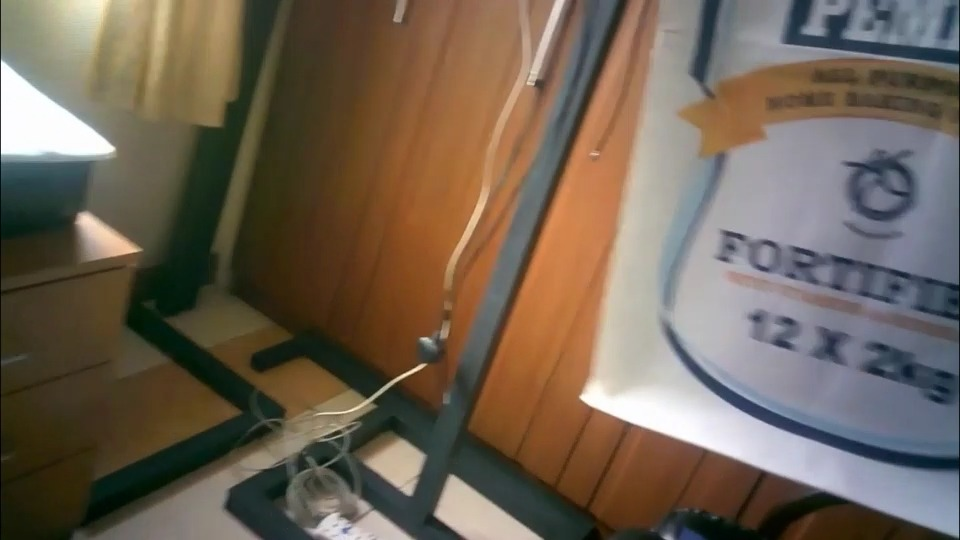wheat_flour_blue_label: (577, 6, 960, 539)
